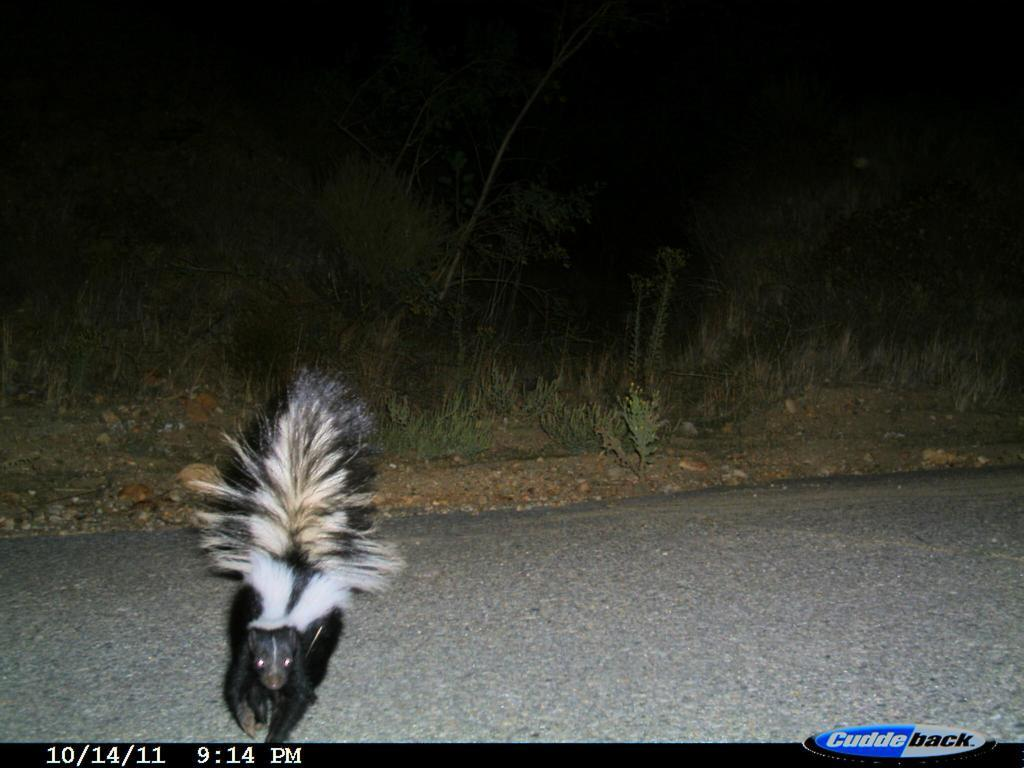skunk: (187, 354, 420, 740)
